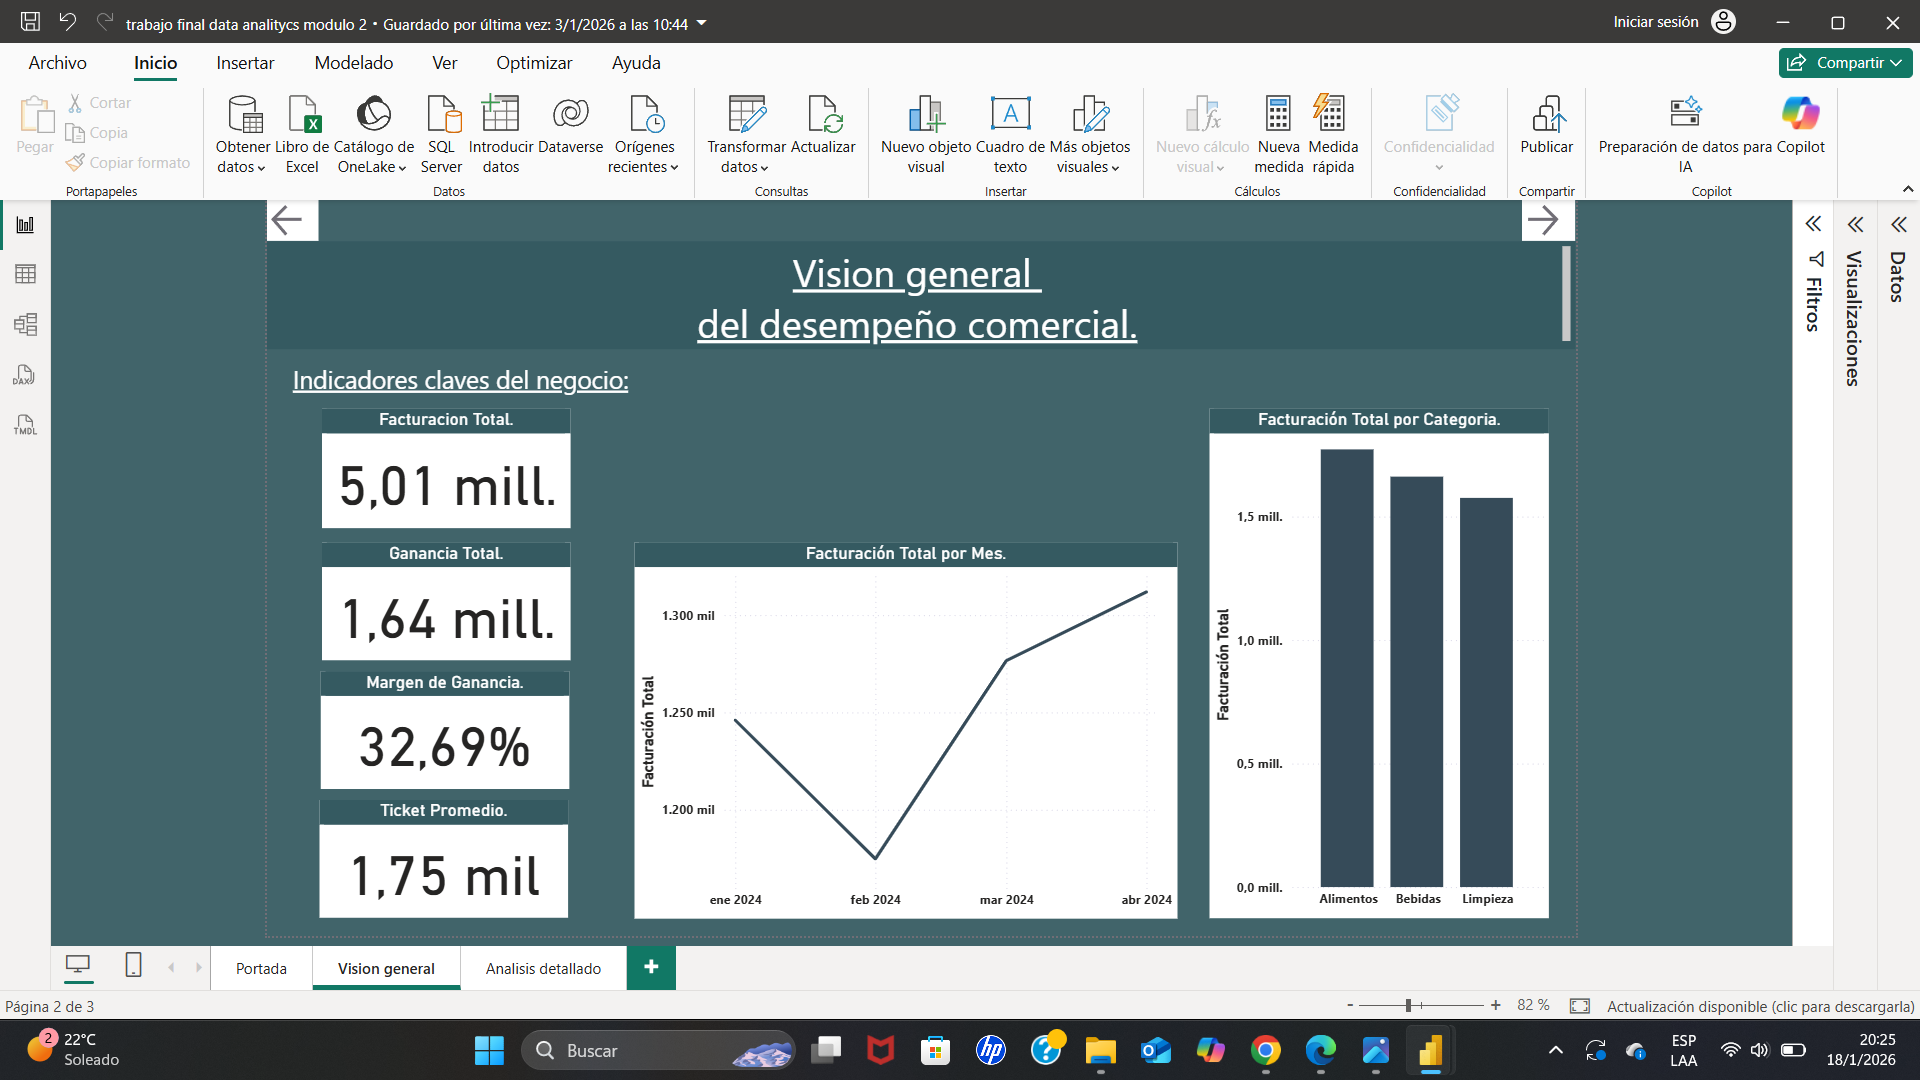

The page's visual inventory and layout, read from the dashboard file:
{"tool":"powerbi","page":{"name":"Vision general","canvas":[1280,720],"ordinal":1},"visuals":[{"type":"card","title":"Facturacion Total.","fields":{"Values":["Medidas.Facturación Total"]},"box":[53.5,204.5,242.9,116.6],"z":2000},{"type":"card","title":"Ganancia Total.","fields":{"Values":["Medidas.Ganancia Total"]},"box":[53.5,334.8,242.9,115.3],"z":3000},{"type":"card","title":"Margen de Ganancia.","fields":{"Values":["Medidas.Margen de Ganancia %"]},"box":[52.1,461.1,242.9,115.3],"z":4000},{"type":"card","title":"Ticket Promedio.","fields":{"Values":["Medidas.Ticket Promedio"]},"box":[50.8,587.3,242.9,115.3],"z":5000},{"type":"lineChart","title":"Facturación Total por Mes.","fields":{"Y":["Medidas.Facturación Total"],"Category":["Ventas.Fecha.Variación.Jerarquía de fechas.Año","Ventas.Fecha.Variación.Jerarquía de fechas.Mes"]},"box":[359.5,334.8,531,367.8],"z":6000},{"type":"columnChart","title":"Facturación Total por Categoria.","fields":{"Category":["Ventas.Categoria"],"Y":["Medidas.Facturación Total"]},"box":[922.1,204.5,332.1,498.1],"z":7000},{"type":"textbox","box":[0,39.8,1280.3,105.7],"z":8000},{"type":"actionButton","box":[1228.1,0,52.1,39.8],"z":8001},{"type":"actionButton","box":[0,0,50.8,39.8],"z":8002},{"type":"shape","title":"Indicadores claves del negocio:","box":[0,145.5,378.7,59],"z":8003}]}

Visuals, with their boxes on the page's 1280x720 design canvas (x1, y1, x2, y2). These are canvas units, not pixel positions in the 1920x1080 screenshot, which may show the page scaled, cropped or inside an application window:
"Facturacion Total." card: l=54, t=204, r=296, b=321
"Ganancia Total." card: l=54, t=335, r=296, b=450
"Margen de Ganancia." card: l=52, t=461, r=295, b=576
"Ticket Promedio." card: l=51, t=587, r=294, b=703
"Facturación Total por Mes." lineChart: l=360, t=335, r=890, b=703
"Facturación Total por Categoria." columnChart: l=922, t=204, r=1254, b=703
textbox: l=0, t=40, r=1280, b=146
actionButton: l=1228, t=0, r=1280, b=40
actionButton: l=0, t=0, r=51, b=40
"Indicadores claves del negocio:" shape: l=0, t=146, r=379, b=204
